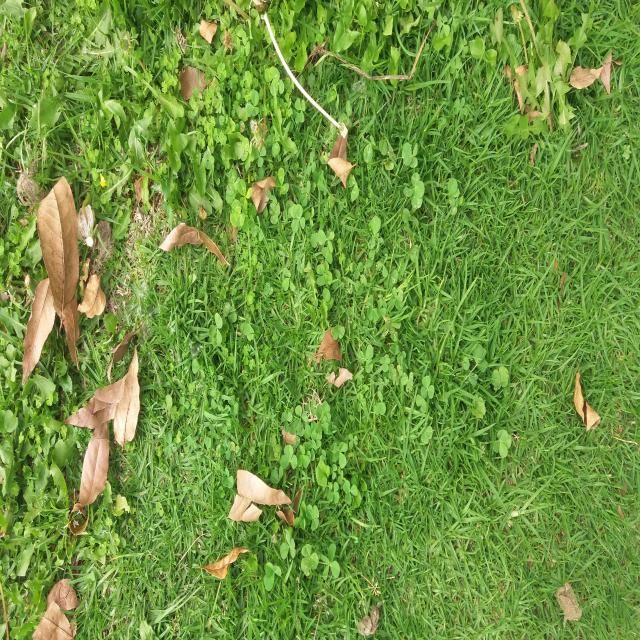Four Leaf Clover: (403, 172, 425, 209), (318, 543, 340, 580), (493, 429, 512, 457), (290, 204, 305, 232), (402, 142, 418, 168), (492, 366, 509, 390)
